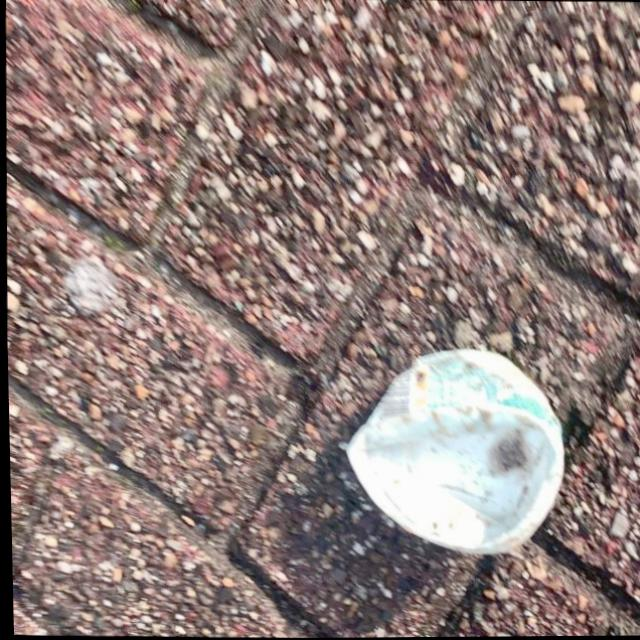Paper: (337, 343, 570, 558)
